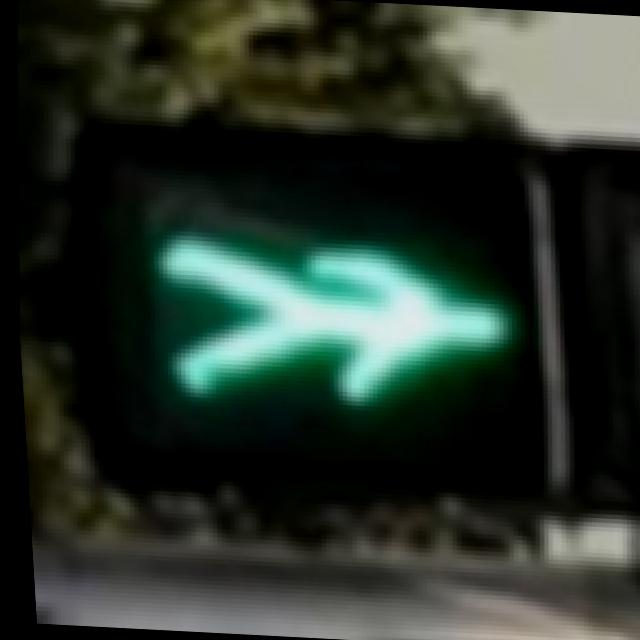green_light: (107, 151, 576, 504)
